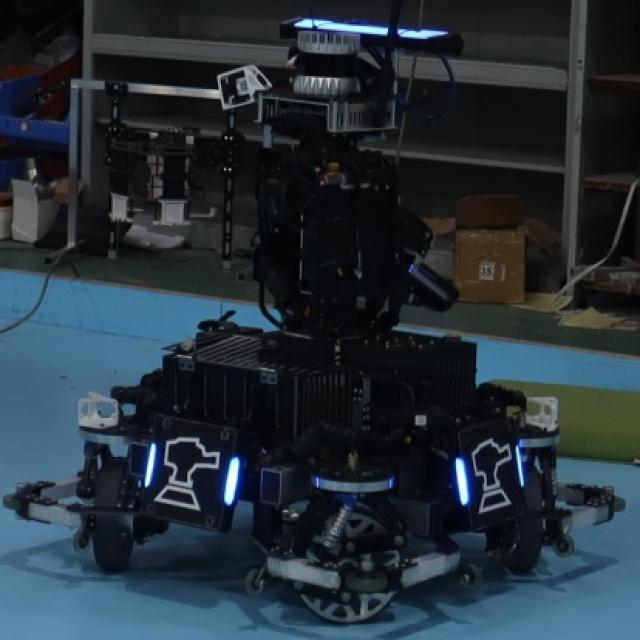Bs: (142, 422, 240, 524), (448, 432, 530, 518)
